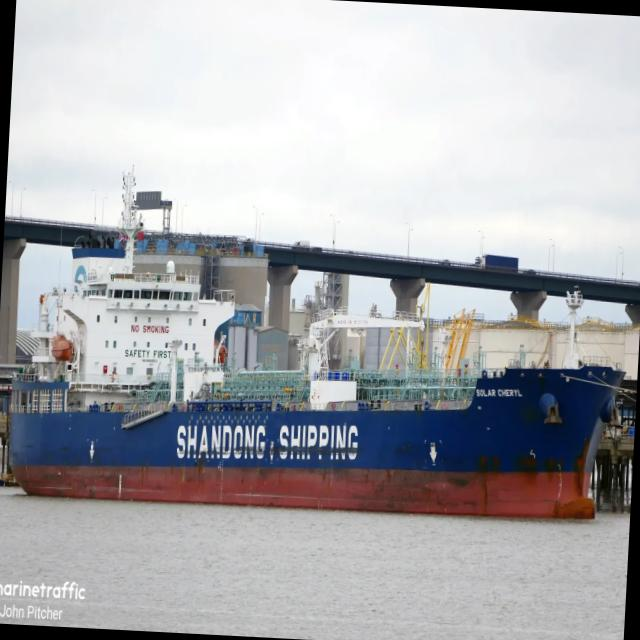Tanker: (10, 175, 623, 518)
